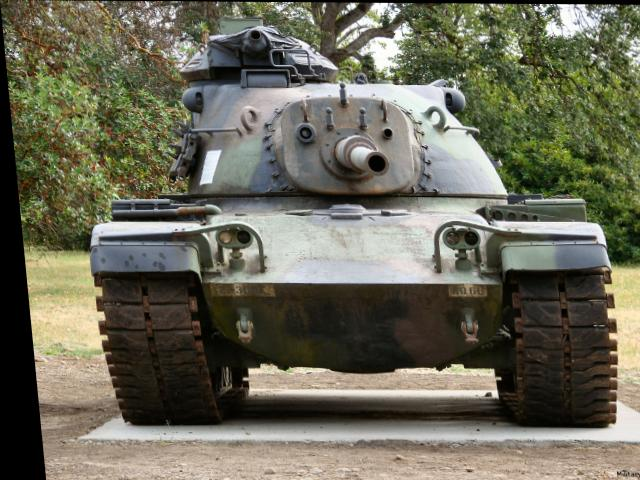tank: (71, 77, 625, 430)
